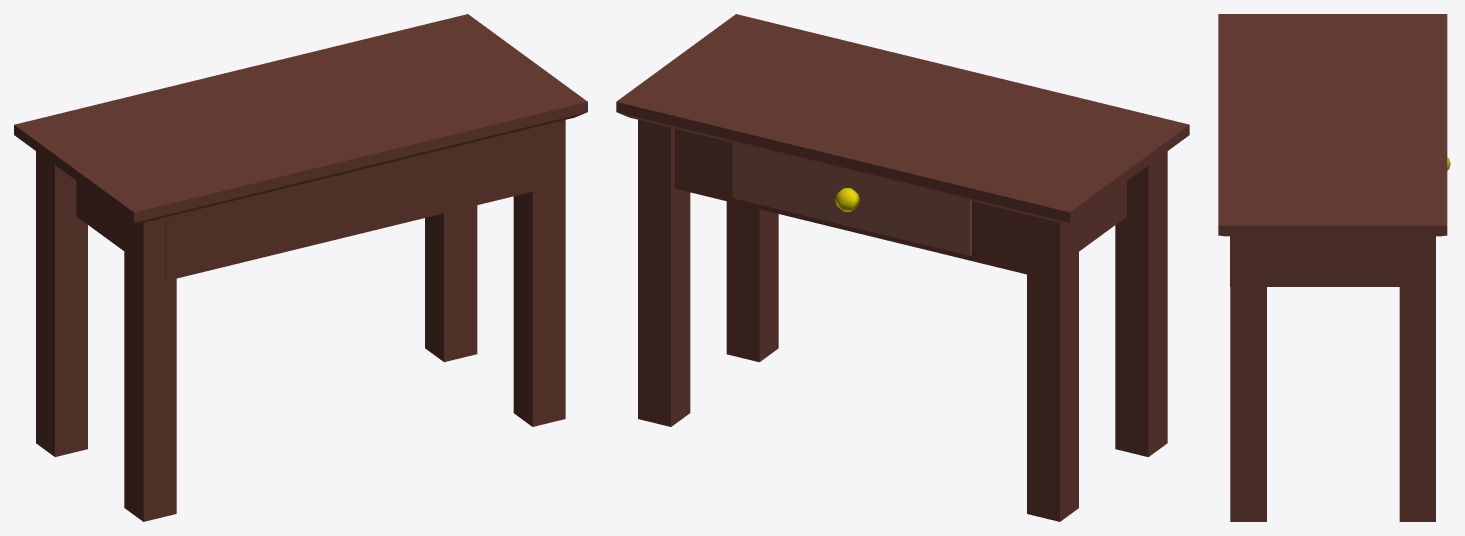
File: Table.fbx
The picture shows the model from 3 angles, left to right: view 1: azimuth 30°, elevation 25°; view 2: azimuth 150°, elevation 25°; view 3: azimuth 270°, elevation 25°; orthographic projection. The views are drawn at different scales.
Parts seen in each view (by area): view 1: Table; view 2: Table; view 3: Table.
Boxes of the visible parts, box(x1,y1,x2,y2) form: Table: box(14, 14, 587, 521); Table: box(616, 14, 1189, 521); Table: box(1218, 14, 1450, 521).
Size of the model in its own units: 604 by 404 by 280.
